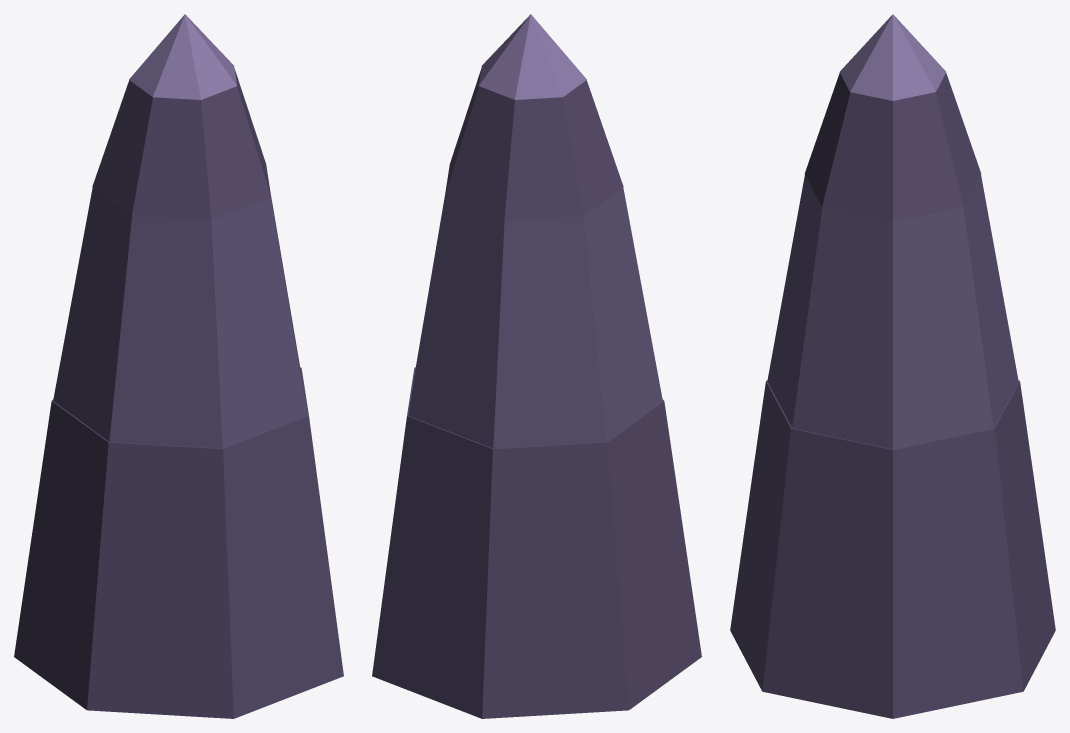
File: env_r12_stalagmite.glb
3 renders of one model, left to right at view 1: azimuth 30°, elevation 25°; view 2: azimuth 150°, elevation 25°; view 3: azimuth 270°, elevation 25°, orthographic.
Parts seen in each view (by area): view 1: env_r12_stalagmite; view 2: env_r12_stalagmite; view 3: env_r12_stalagmite.
Boxes of the visible parts, left/top/right/bottom form: env_r12_stalagmite: left=14, top=14, right=343, bottom=718; env_r12_stalagmite: left=372, top=14, right=701, bottom=718; env_r12_stalagmite: left=730, top=14, right=1055, bottom=718.
Size of the model in its own units: 1.4 by 3 by 1.4.
1 material, 1 textured.
